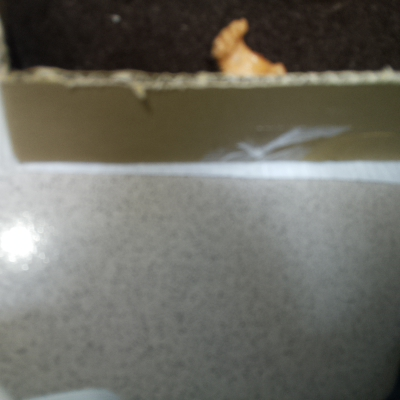eggs: (206, 13, 292, 92)
